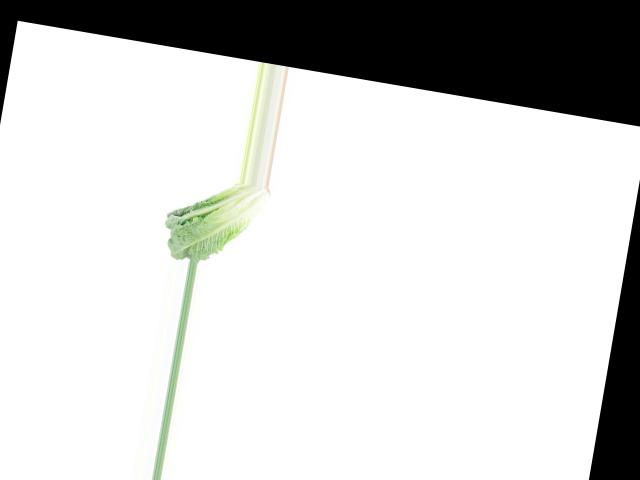lettuce: (158, 171, 272, 272)
